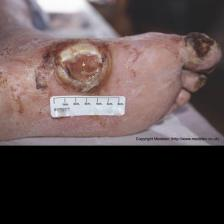Wound: (48, 39, 119, 95), (184, 31, 214, 60)
